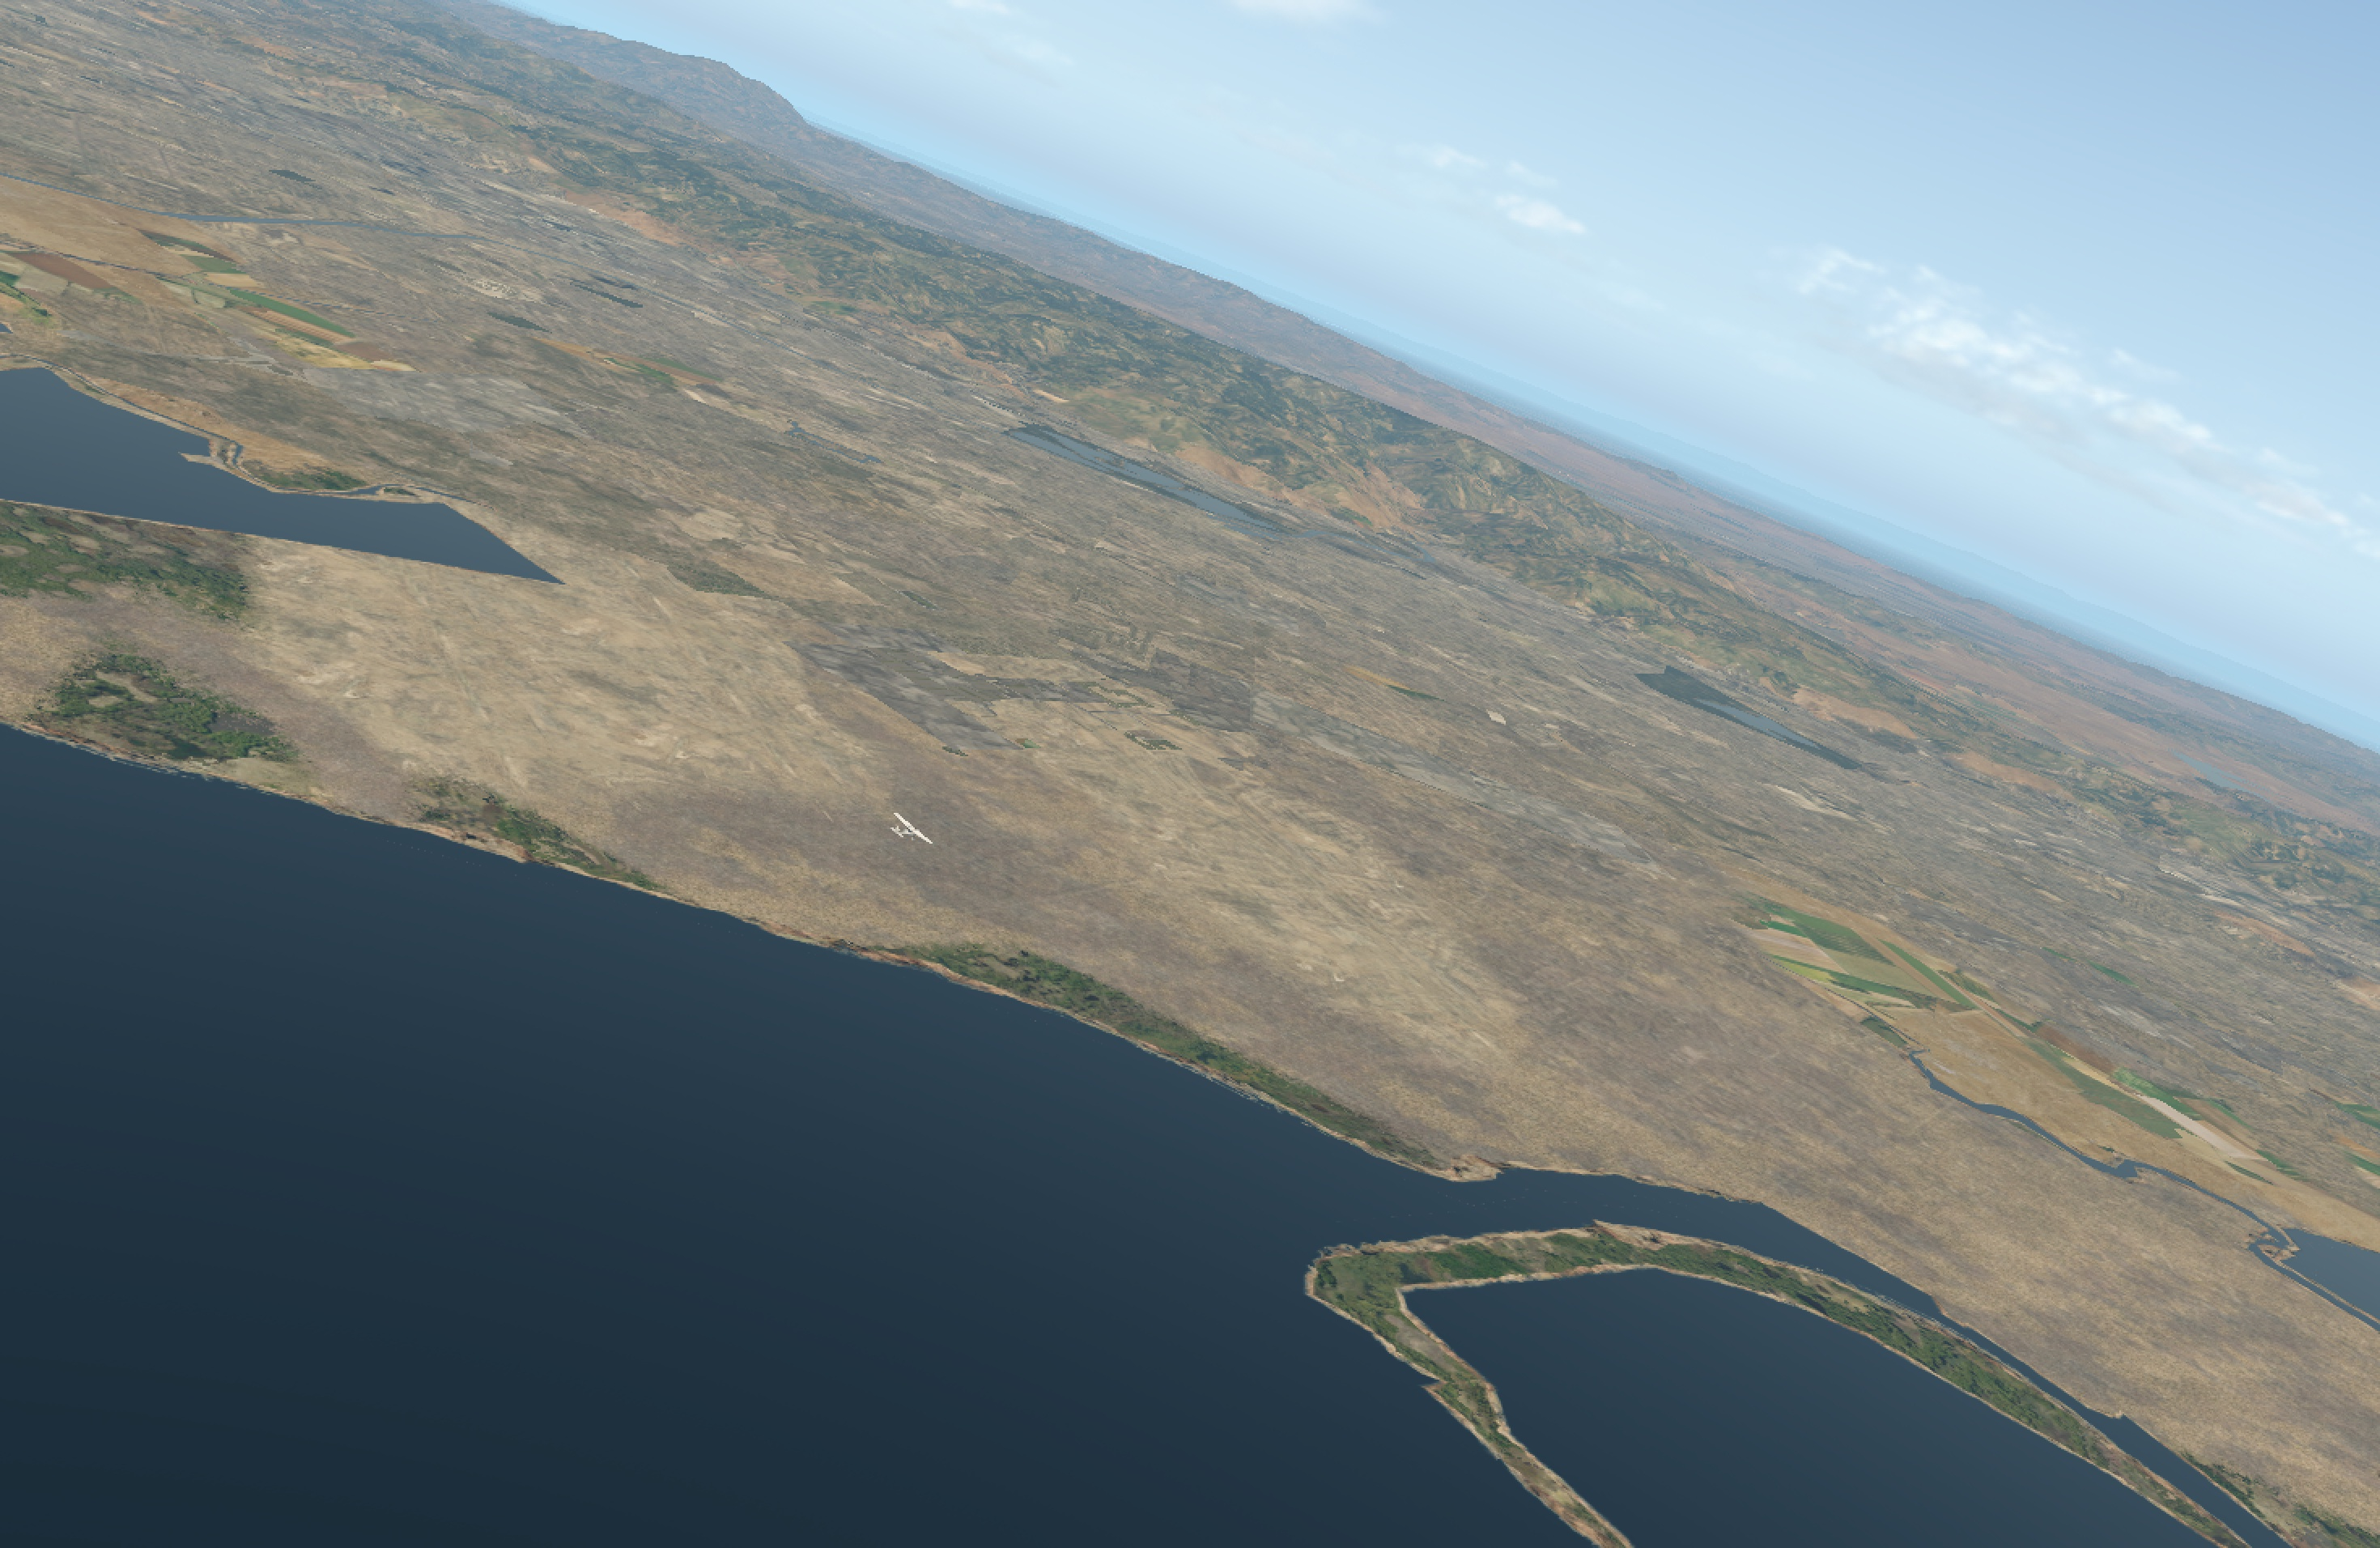aircraft: (892, 823, 932, 838)
